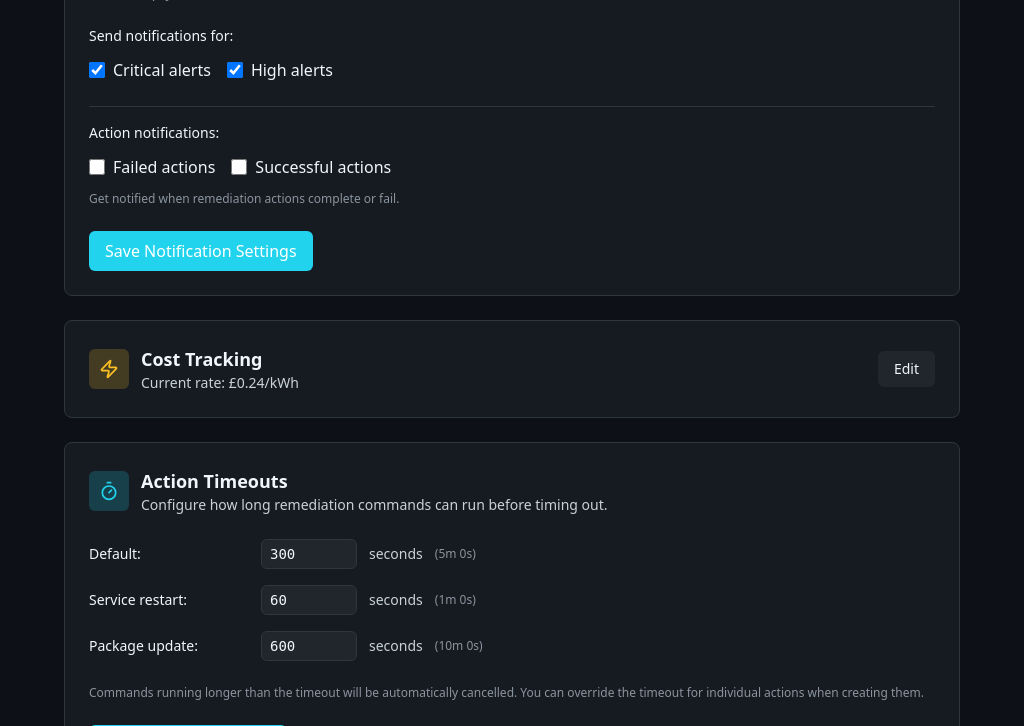
it: Settings Page › Cost Tracking Settings (US0034) › opens dialog on Edit button click
(page scrolled)
Click the button with test id "cost-settings-edit-button" at (906,369), box [878, 351, 935, 387]
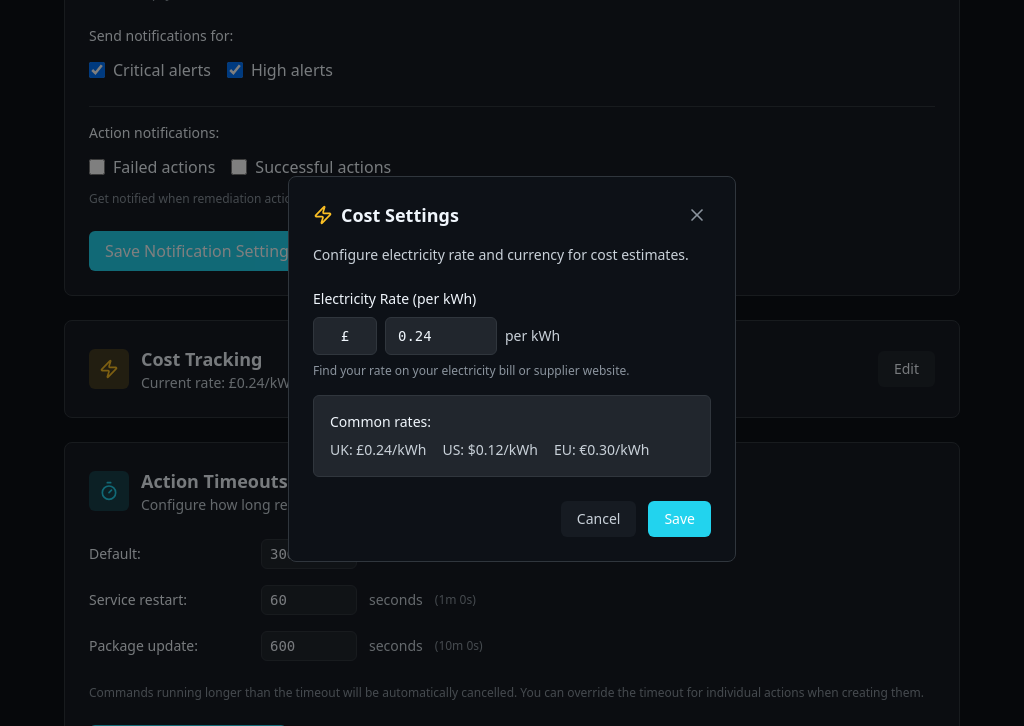
Expected: the element with test id "cost-settings-dialog" is shown, [288, 176, 736, 562]
